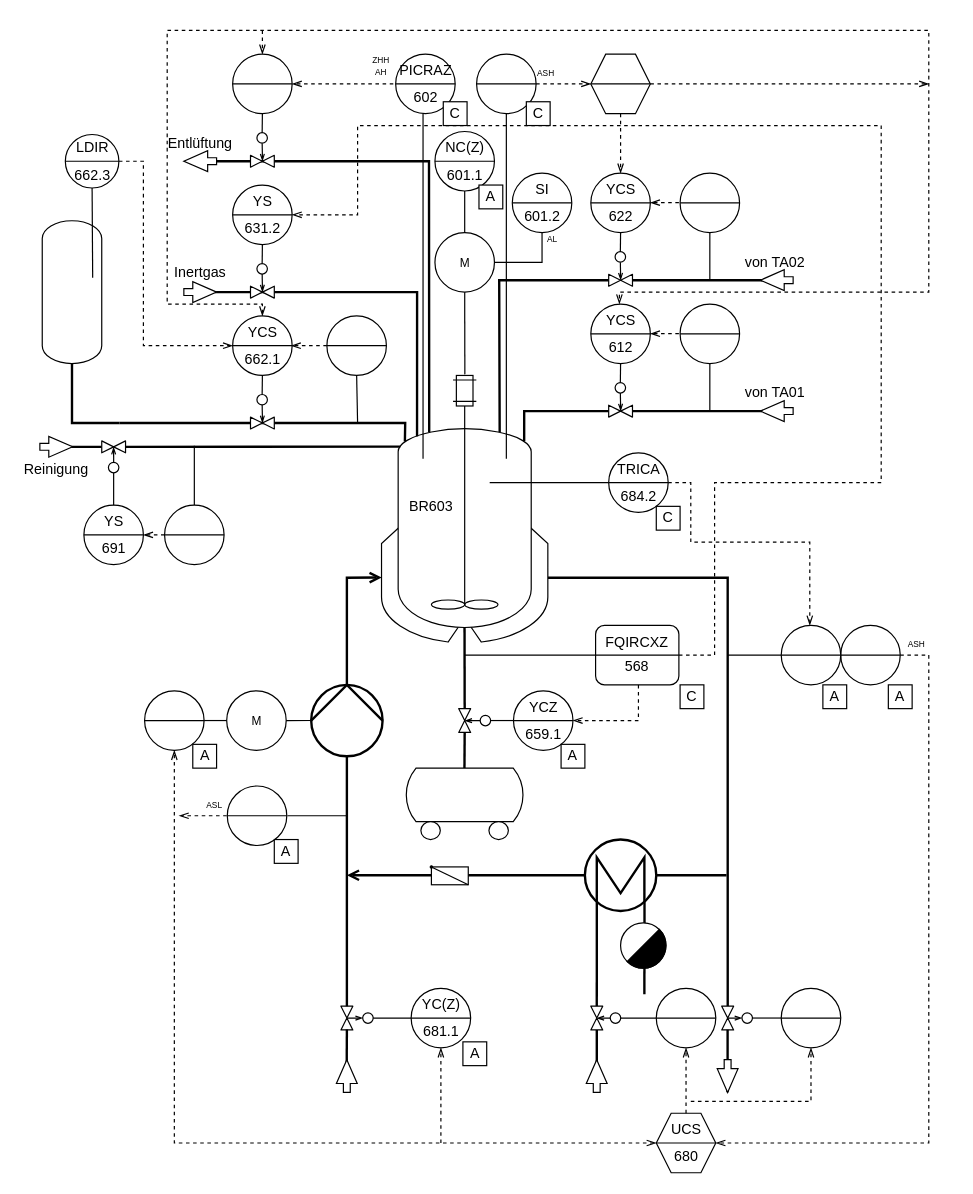
Image size: 973x1194. Some labels were removed from this diagram. The shapes that lost their labels are listed below. From the top down, each one's centre as x and y in pixels, then its label:
pixel 261 83: YC(Z) 631.1
pixel 505 83: LCIRS 603
pixel 620 83: UCS 600
pixel 709 202: FQCIR 621
pixel 71 292: BE62
pixel 356 345: FQCIR 662.2
pixel 709 333: FQCIR 611
pixel 193 534: FQC 692
pixel 810 654: PICAZ 684.1
pixel 870 654: TICAZ 684.3
pixel 173 720: NC(Z) 682.1
pixel 256 815: PIFCZ 682.2
pixel 685 1017: YCS 681.2
pixel 810 1017: YCS 681.3
